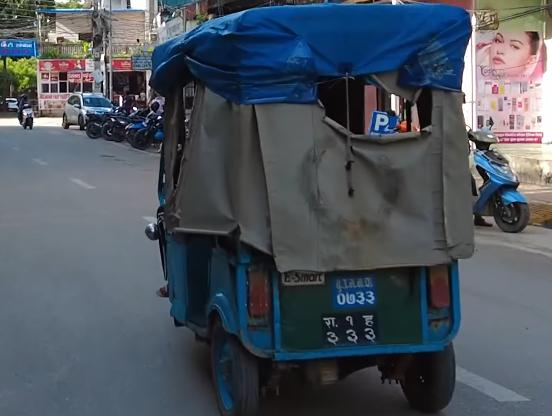car: (60, 88, 116, 131)
e-rickshaw: (150, 0, 478, 416)
scooter: (466, 122, 531, 237)
